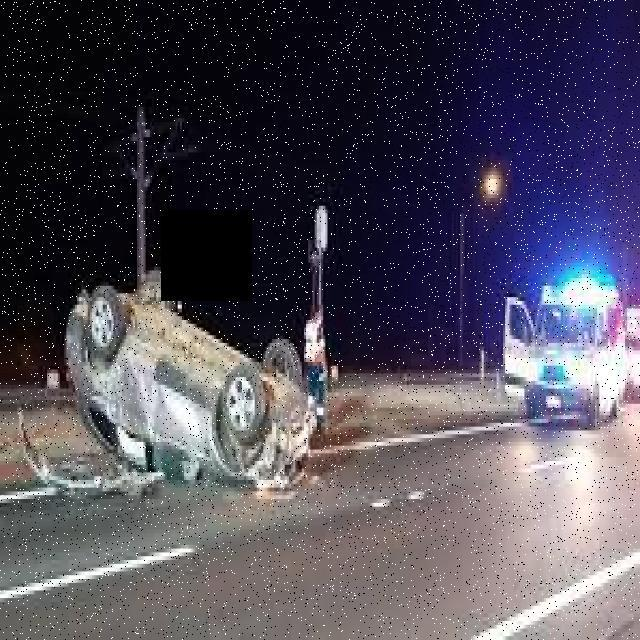severe: (64, 266, 317, 496)
